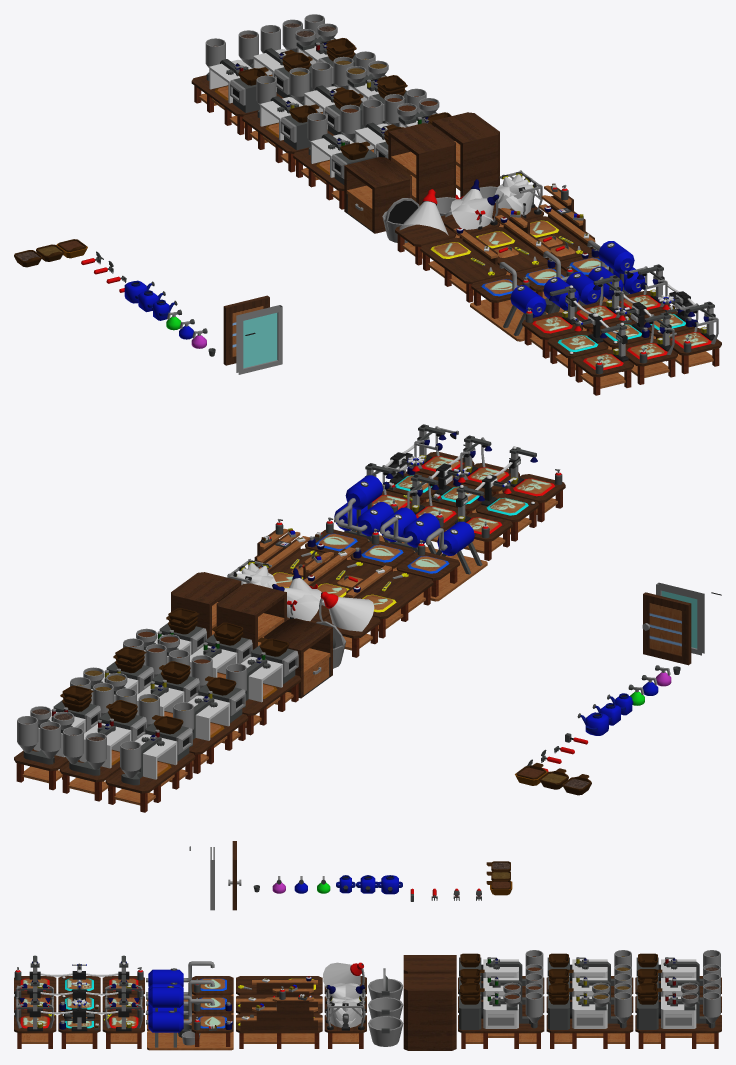
File: TablesAndDinamicObjects.fbx
3 views of the same model, one above another, from view 1: azimuth 30°, elevation 25°; view 2: azimuth 150°, elevation 25°; view 3: azimuth 270°, elevation 25° (orthographic). The views are drawn at different scales.
Parts seen in each view (by area): view 1: CrossingTable1, CrossingTable2, CrossingTable3, PotsRack2, PotsRack1, ExoticSoilPreparationTable1, DecorativeSoilPreparationTable1, PotsRack3, WildSoilPreparationTable1, WeedingTable1, WateringTable1, WeedingTable3 (+18 smaller); view 2: CrossingTable1, ExoticSoilPreparationTable1, ExoticSoilPreparationTable2, ExoticSoilPreparationTable3, WildSoilPreparationTable1, DecorativeSoilPreparationTable1, CrossingTable2, WateringTable1, CrossingTable3, WateringTable3, WeedingTable1, PotsRack1 (+14 smaller); view 3: PotsRack3, CrossingTable3, WildSoilPreparationTable3, ExoticSoilPreparationTable3, DecorativeSoilPreparationTable3, WateringTable3, WeedingTable3, CrossingTable2, CrossingTable1, PotsRack2, WildSoilPreparationTable1, DecorativeSoilPreparationTable1 (+15 smaller).
Part boxes in pixels (x1,y1,x2,y2): CrossingTable1: [522, 286, 633, 395]; CrossingTable2: [567, 275, 677, 384]; CrossingTable3: [611, 264, 721, 374]; PotsRack2: [388, 123, 455, 216]; PotsRack1: [344, 157, 411, 242]; ExoticSoilPreparationTable1: [191, 38, 268, 134]; DecorativeSoilPreparationTable1: [242, 75, 319, 172]; PotsRack3: [432, 112, 499, 202]; WildSoilPreparationTable1: [293, 112, 376, 209]; WeedingTable1: [420, 227, 506, 302]; WateringTable1: [470, 262, 546, 341]; WeedingTable3: [528, 183, 595, 264]; CrossingTable1: [450, 447, 565, 560]; ExoticSoilPreparationTable1: [105, 715, 195, 812]; ExoticSoilPreparationTable2: [59, 700, 146, 801]; ExoticSoilPreparationTable3: [14, 685, 100, 790]; WildSoilPreparationTable1: [226, 637, 301, 735]; DecorativeSoilPreparationTable1: [173, 676, 248, 773]; CrossingTable2: [407, 435, 519, 548]; WateringTable1: [396, 521, 487, 601]; CrossingTable3: [365, 424, 474, 512]; WateringTable3: [305, 475, 393, 559]; WeedingTable1: [346, 565, 433, 638]; PotsRack1: [264, 618, 346, 698]; PotsRack3: [368, 973, 456, 1050]; CrossingTable3: [14, 993, 144, 1048]; WildSoilPreparationTable3: [458, 980, 544, 1048]; ExoticSoilPreparationTable3: [635, 980, 721, 1048]; DecorativeSoilPreparationTable3: [546, 980, 633, 1048]; WateringTable3: [146, 986, 233, 1050]; WeedingTable3: [236, 986, 322, 1048]; CrossingTable2: [14, 974, 144, 1013]; CrossingTable1: [14, 955, 144, 994]; PotsRack2: [368, 955, 456, 1018]; WildSoilPreparationTable1: [458, 950, 544, 994]; DecorativeSoilPreparationTable1: [546, 950, 633, 994].
Size of the model in its own units: 1945 by 320 by 3190.
